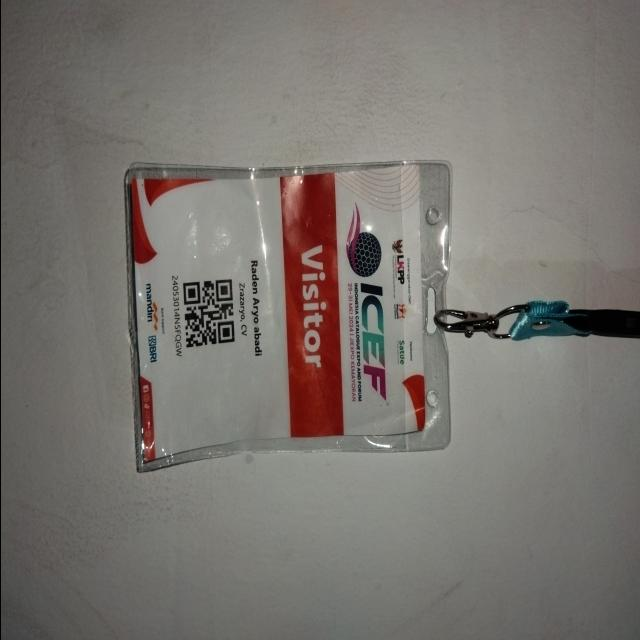ID_card: (124, 159, 452, 473)
